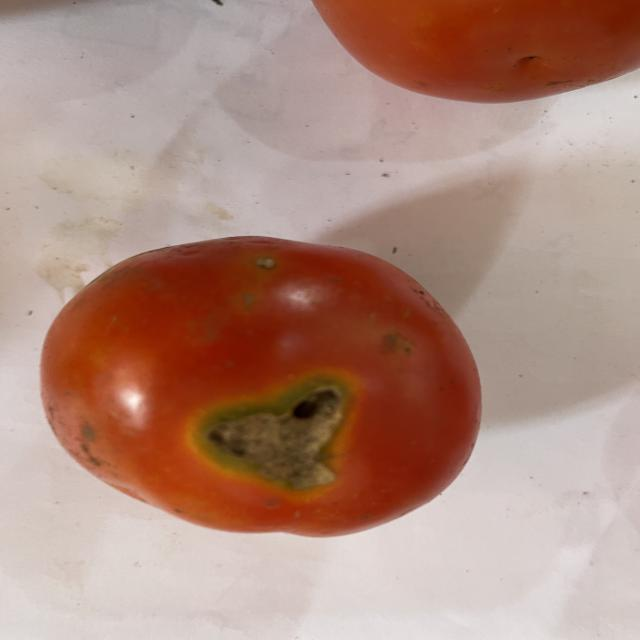fruitworm_bore: (187, 376, 358, 496)
